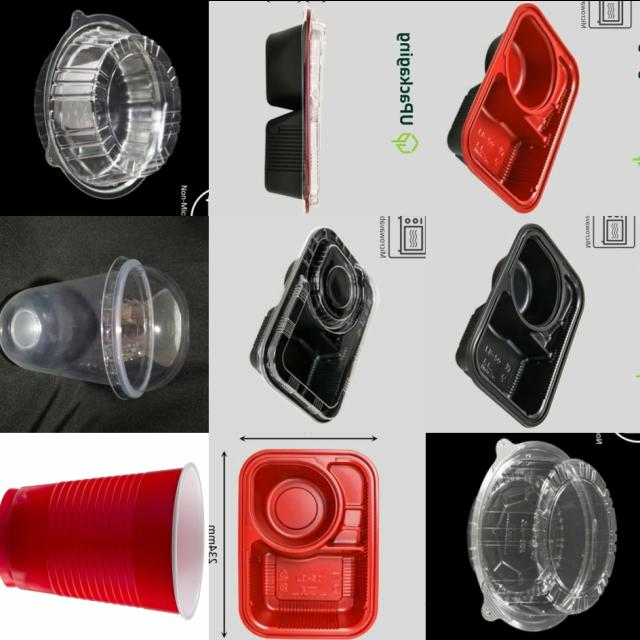plastik: (0, 462, 204, 618), (468, 438, 616, 631), (34, 9, 181, 198), (448, 2, 579, 212), (0, 256, 189, 398), (239, 449, 378, 639), (456, 223, 584, 426), (251, 227, 376, 421), (265, 8, 325, 212)
